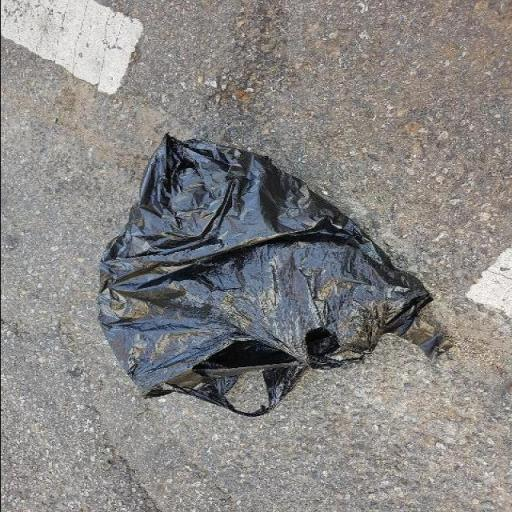plastic-bag: (92, 135, 455, 420)
